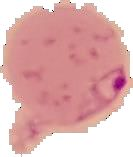parasitized: (7, 13, 129, 127), (81, 60, 133, 108)
